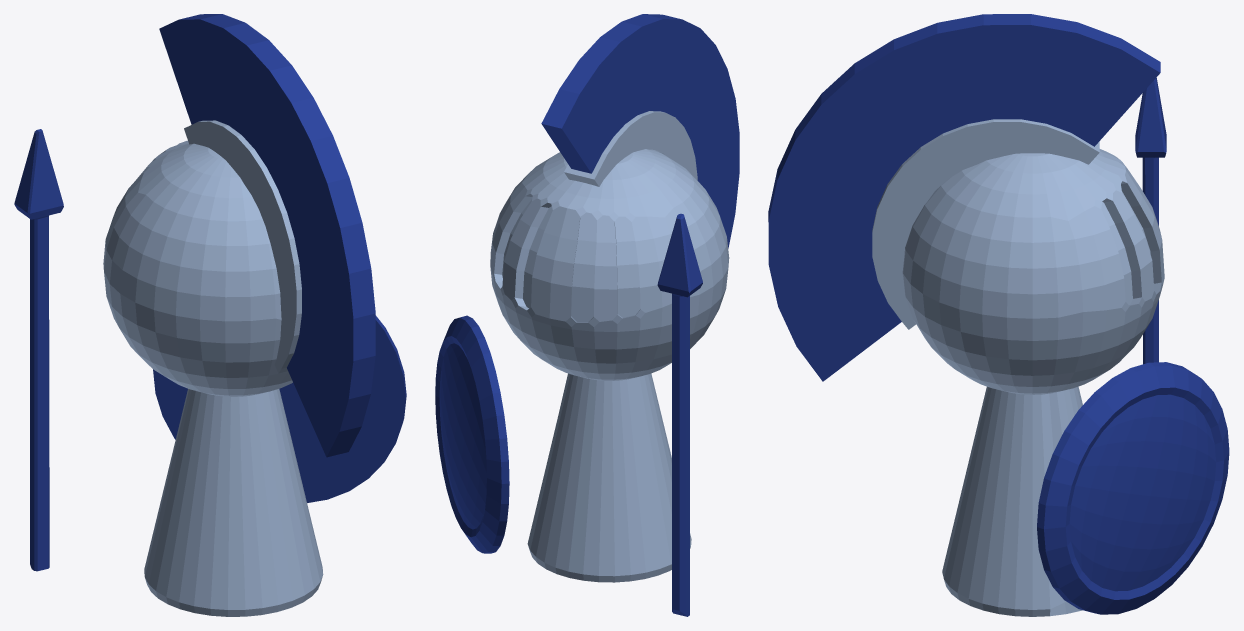
File: Knight_Blue_Walk_01.fbx
3 renders of one model, left to right at view 1: azimuth 30°, elevation 25°; view 2: azimuth 150°, elevation 25°; view 3: azimuth 270°, elevation 25°, orthographic. The views are drawn at different scales.
Visible parts, largest first — view 1: main body.002; view 2: main body.002; view 3: main body.002.
Boxes of the visible parts, x1=… form: main body.002: x1=14, y1=14, x2=406, y2=616; main body.002: x1=435, y1=14, x2=739, y2=616; main body.002: x1=768, y1=14, x2=1229, y2=616.
Size of the model in its own units: 293 by 468 by 349.
2 materials, 2 textured.
